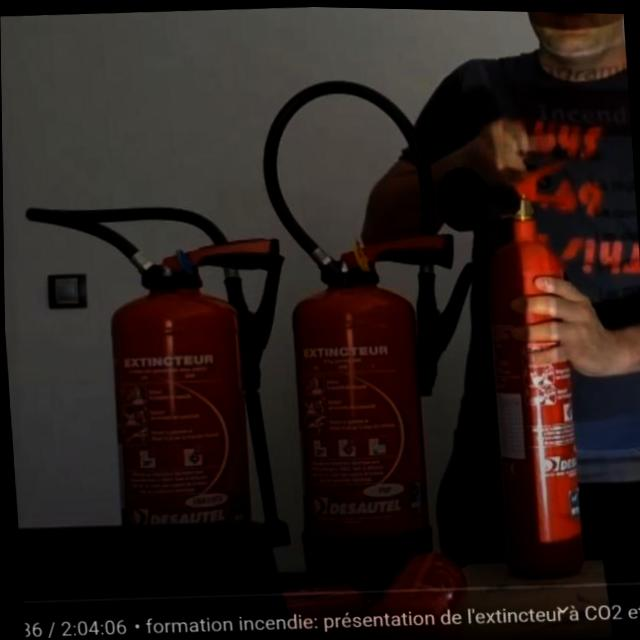FireExtinguisher: (251, 64, 478, 615), (14, 182, 307, 601), (427, 144, 593, 586)
